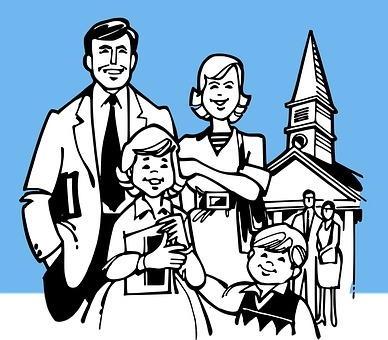person: (17, 16, 182, 324), (94, 124, 215, 338), (169, 48, 268, 283), (198, 222, 315, 338), (289, 188, 325, 322), (312, 199, 343, 325)
